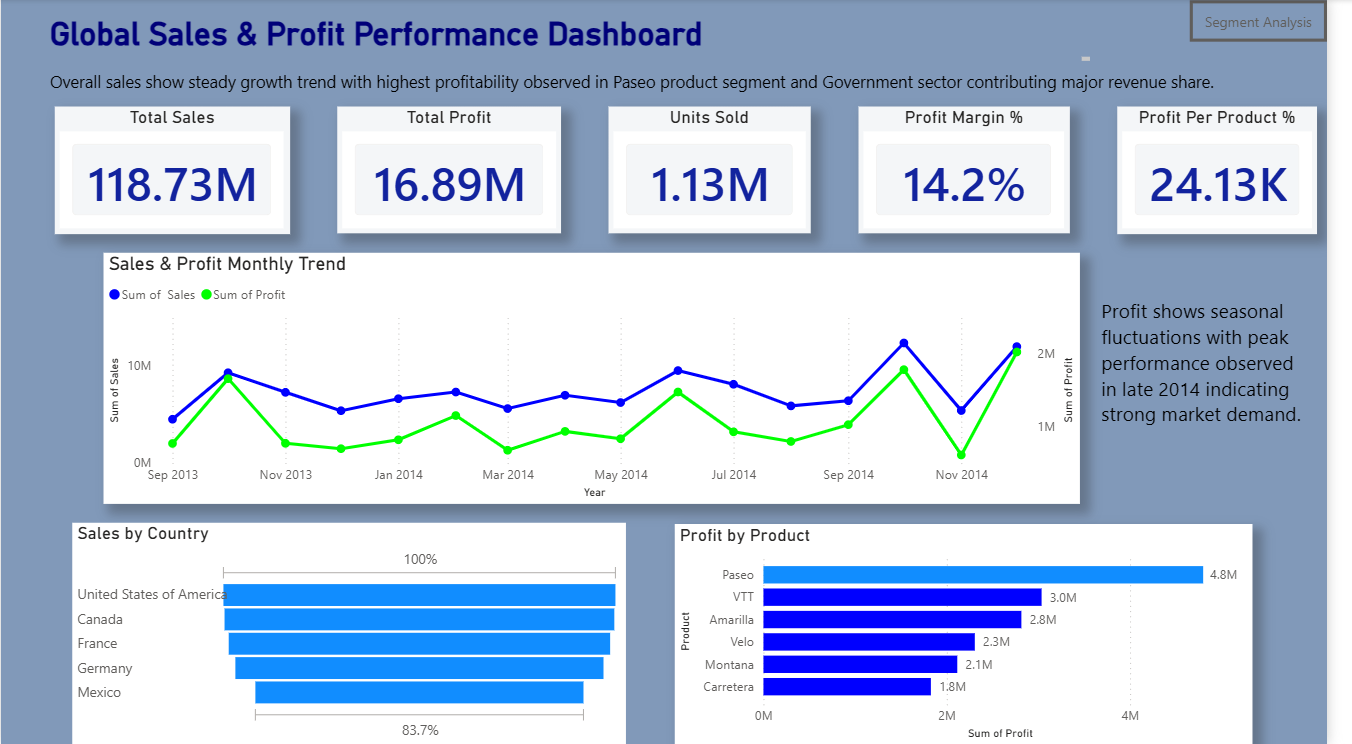

The dashboard page shown, as its layout file describes it:
{"tool":"powerbi","page":{"name":"Executive Overview","canvas":[1280,720],"ordinal":0},"visuals":[{"type":"cardVisual","title":"Total Sales","fields":{"Data":["Sum(financials. Sales)"]},"box":[51.9,103.8,226.8,123.1],"z":0},{"type":"cardVisual","title":"Units Sold","fields":{"Data":["Sum(financials.Units Sold)"]},"box":[586.8,103.8,195,122.5],"z":1000},{"type":"cardVisual","title":"Total Profit","fields":{"Data":["Sum(financials.Profit)"]},"box":[324.6,103.8,216.2,122.5],"z":2000},{"type":"cardVisual","title":"Profit Margin %","fields":{"Data":["financials.Profit Margin"]},"box":[827.7,103.8,203.8,122.5],"z":3000},{"type":"lineChart","title":"Sales & Profit Monthly Trend","fields":{"Y":["Sum(financials. Sales)"],"Y2":["Sum(financials.Profit)"],"Category":["financials.Date.Variation.Date Hierarchy.Year","financials.Date.Variation.Date Hierarchy.Quarter","financials.Date.Variation.Date Hierarchy.Month","financials.Date.Variation.Date Hierarchy.Day"]},"box":[98.8,245,942.5,242.5],"z":4000},{"type":"clusteredBarChart","title":"Profit by Product","fields":{"Category":["financials.Product"],"Y":["Sum(financials.Profit)"]},"box":[650.3,506.7,557.4,213.5],"z":5000},{"type":"textbox","title":"Global Sales & Profit Performance Dashboard","box":[42.5,16.2,1013.8,48.8],"z":6000},{"type":"actionButton","box":[1147.5,1.2,132.5,40],"z":7000},{"type":"textbox","box":[42.5,63.8,1203.8,40],"z":8000},{"type":"cardVisual","title":"Profit Per Product %","fields":{"Data":["financials.Avg Profit per Product"]},"box":[1077.4,103.8,193,123.1],"z":9000},{"type":"textbox","box":[1056.2,283.8,213.8,138.8],"z":10000},{"type":"funnel","title":"Sales by Country","fields":{"Category":["financials.Country"],"Y":["Sum(financials. Sales)"]},"box":[68.8,505.5,534.5,214.7],"z":11000}]}

Visuals, with their boxes in screenshot pixels (x1, y1, x2, y2), scaled from the page's 1280x720 canvas onto the 1352x744 screenshot:
"Total Sales" cardVisual: bbox=[55, 107, 294, 234]
"Units Sold" cardVisual: bbox=[620, 107, 826, 234]
"Total Profit" cardVisual: bbox=[343, 107, 571, 234]
"Profit Margin %" cardVisual: bbox=[874, 107, 1090, 234]
"Sales & Profit Monthly Trend" lineChart: bbox=[104, 253, 1100, 504]
"Profit by Product" clusteredBarChart: bbox=[687, 524, 1276, 743]
"Global Sales & Profit Performance Dashboard" textbox: bbox=[45, 17, 1116, 67]
actionButton: bbox=[1212, 1, 1351, 43]
textbox: bbox=[45, 66, 1316, 107]
"Profit Per Product %" cardVisual: bbox=[1138, 107, 1342, 234]
textbox: bbox=[1116, 293, 1341, 437]
"Sales by Country" funnel: bbox=[73, 522, 637, 743]
